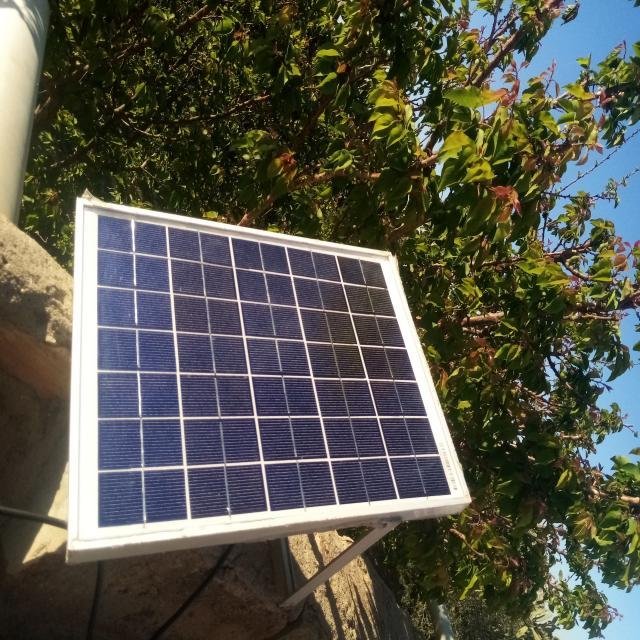no faulty: (72, 200, 471, 547)
